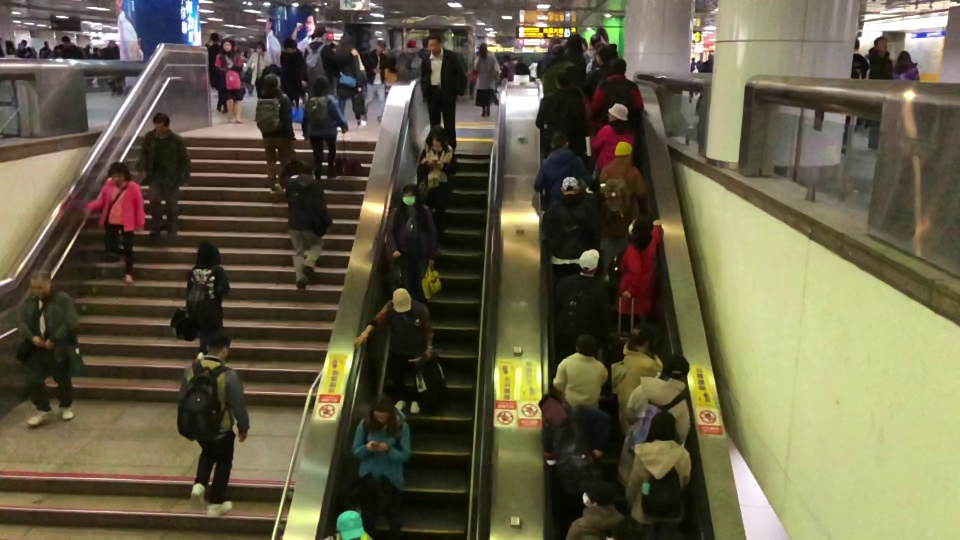person_head: (335, 508, 364, 540), (659, 352, 690, 381), (649, 412, 679, 441), (205, 329, 233, 358), (627, 324, 656, 352), (537, 393, 565, 422), (626, 214, 653, 243), (581, 478, 611, 504), (371, 392, 394, 424), (197, 239, 221, 265), (578, 247, 600, 274), (390, 286, 412, 312), (29, 269, 50, 296), (107, 160, 130, 184), (574, 333, 598, 356), (427, 124, 447, 150), (399, 181, 419, 206), (606, 103, 629, 123), (151, 112, 170, 135), (547, 129, 568, 149), (559, 174, 579, 195), (311, 74, 329, 94), (297, 157, 316, 175), (596, 46, 615, 64), (613, 140, 633, 157), (872, 34, 889, 54), (555, 68, 570, 90), (261, 71, 279, 89), (897, 49, 914, 67), (610, 58, 627, 75), (427, 35, 442, 54), (338, 33, 353, 50), (567, 35, 581, 52), (282, 37, 296, 50), (550, 46, 563, 60), (315, 25, 326, 41), (221, 39, 233, 52), (589, 34, 600, 46), (479, 41, 488, 55), (376, 40, 384, 53), (854, 38, 861, 51), (210, 32, 218, 43), (256, 42, 264, 53), (61, 36, 69, 45), (503, 52, 509, 61), (43, 40, 47, 47), (691, 57, 695, 61)
person_vbox: (176, 328, 250, 519), (14, 270, 81, 431), (353, 286, 435, 415), (616, 352, 691, 493), (350, 391, 413, 540), (626, 411, 691, 539), (537, 392, 609, 502), (86, 160, 146, 285), (134, 111, 191, 242), (285, 156, 333, 290), (385, 182, 438, 302), (599, 140, 645, 275), (557, 246, 614, 353), (540, 175, 597, 276), (609, 323, 663, 428), (616, 214, 665, 326), (416, 124, 458, 252), (420, 34, 467, 148), (300, 73, 348, 178), (255, 72, 296, 194), (185, 238, 230, 349), (532, 129, 593, 205), (552, 332, 609, 409), (589, 57, 644, 130), (565, 477, 625, 540), (335, 32, 368, 131), (840, 37, 868, 153), (535, 67, 584, 131), (867, 35, 893, 152), (589, 103, 635, 169), (214, 38, 245, 125), (473, 41, 500, 119), (303, 24, 336, 82), (279, 38, 307, 101), (364, 38, 385, 119), (541, 46, 573, 93), (208, 31, 226, 113), (587, 46, 617, 88), (246, 43, 271, 86), (893, 49, 920, 81), (501, 52, 515, 80), (688, 57, 697, 100)
